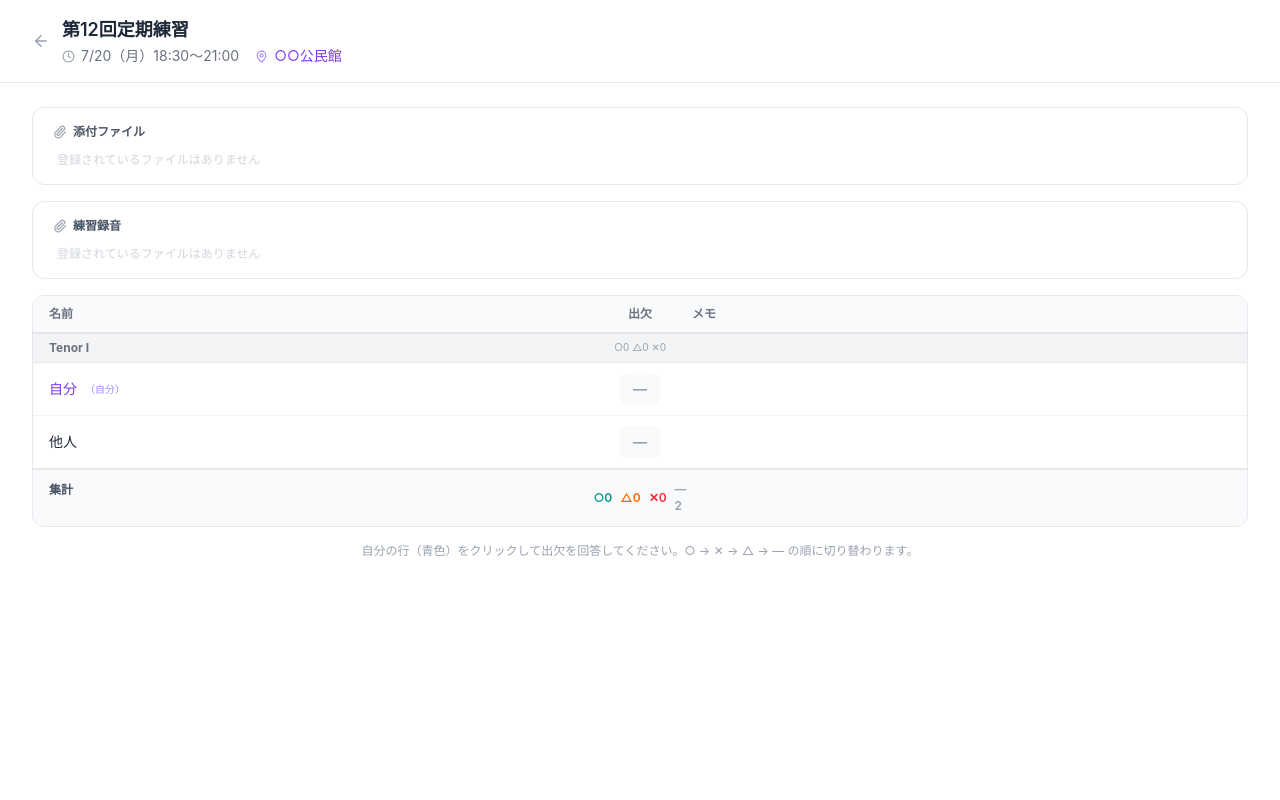
ScheduleDetailPage（出欠セルのクリック） › 自分の行のセルをクリックすると即座に表示が更新され、updateAttendanceが呼ばれる
Click the button titled "クリックで変更" in the row of "（自分）": (640, 389) [620,373,660,405]
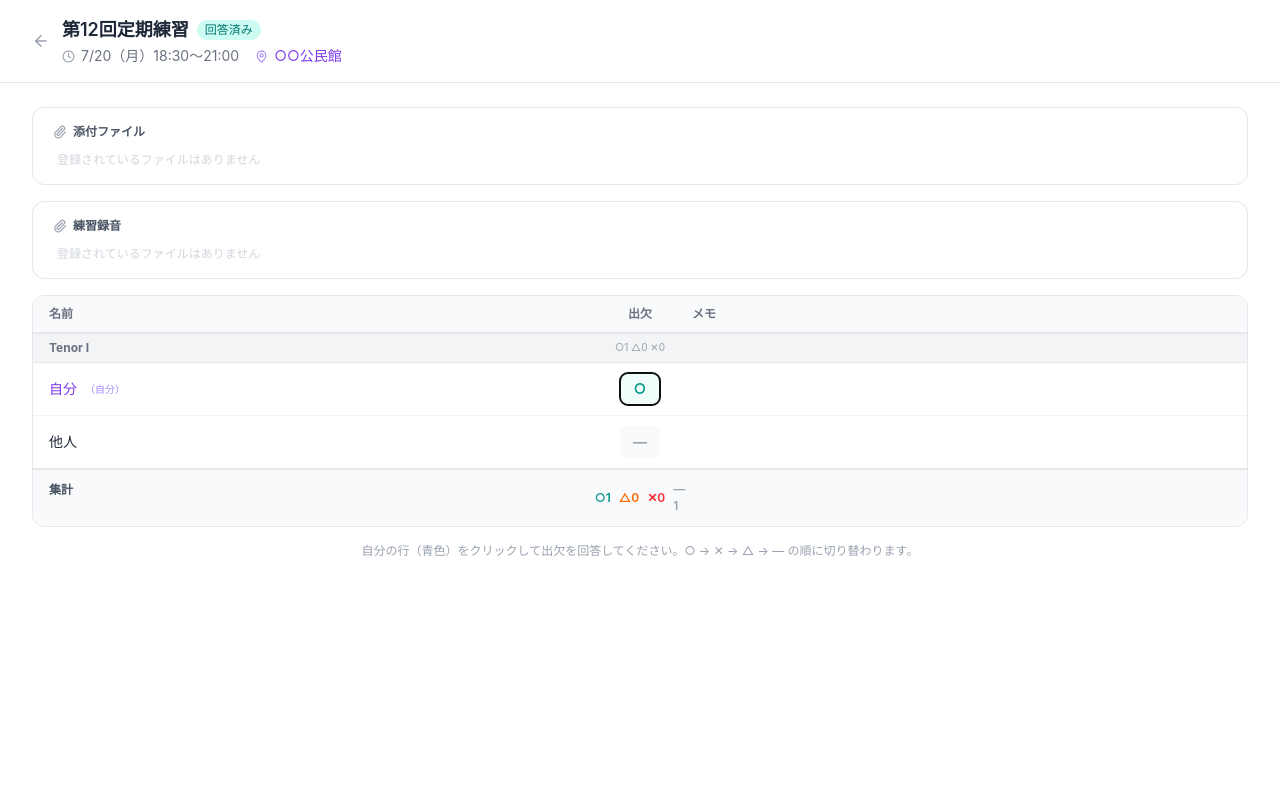
Check: the button titled "クリックで変更" reads "○"
Click the button titled "クリックで変更": (640, 389) [620,373,660,405]
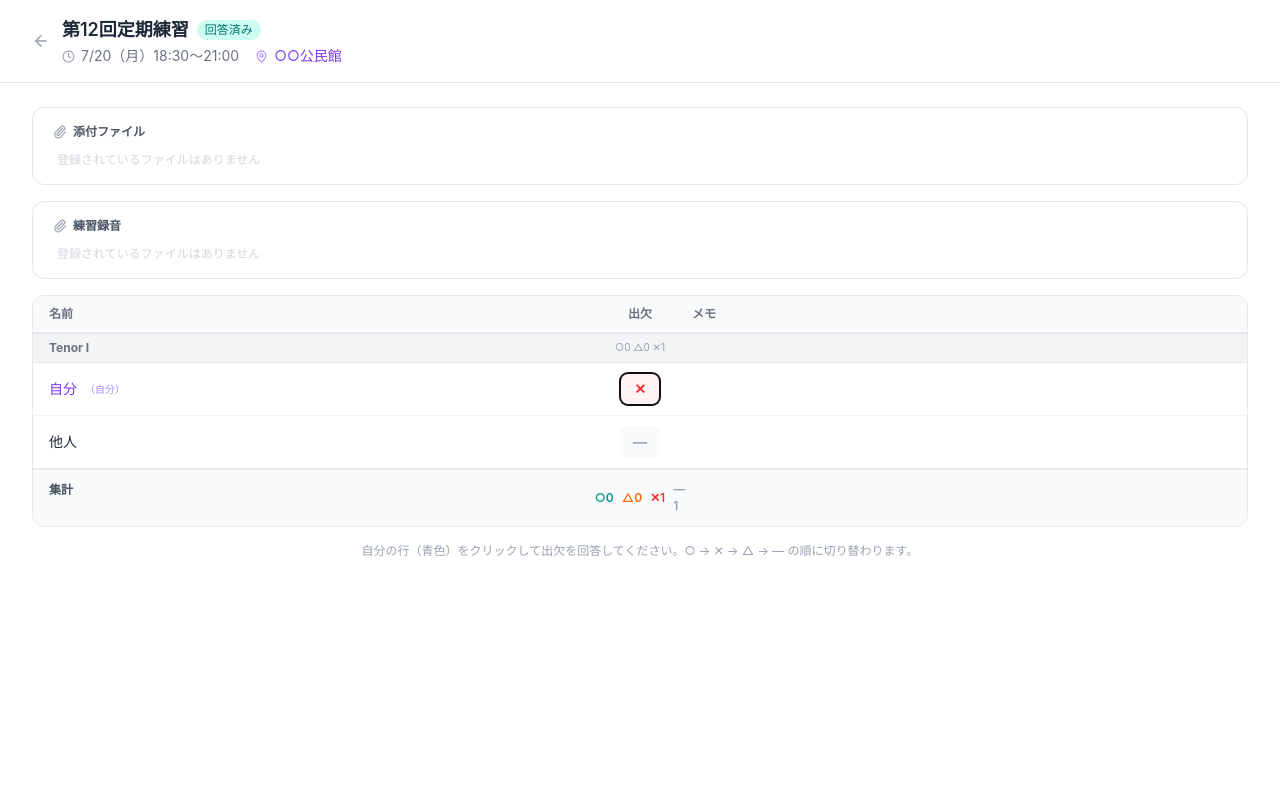
Check: the button titled "クリックで変更" reads "✕"
Click the button titled "クリックで変更": (640, 389) [620,373,660,405]
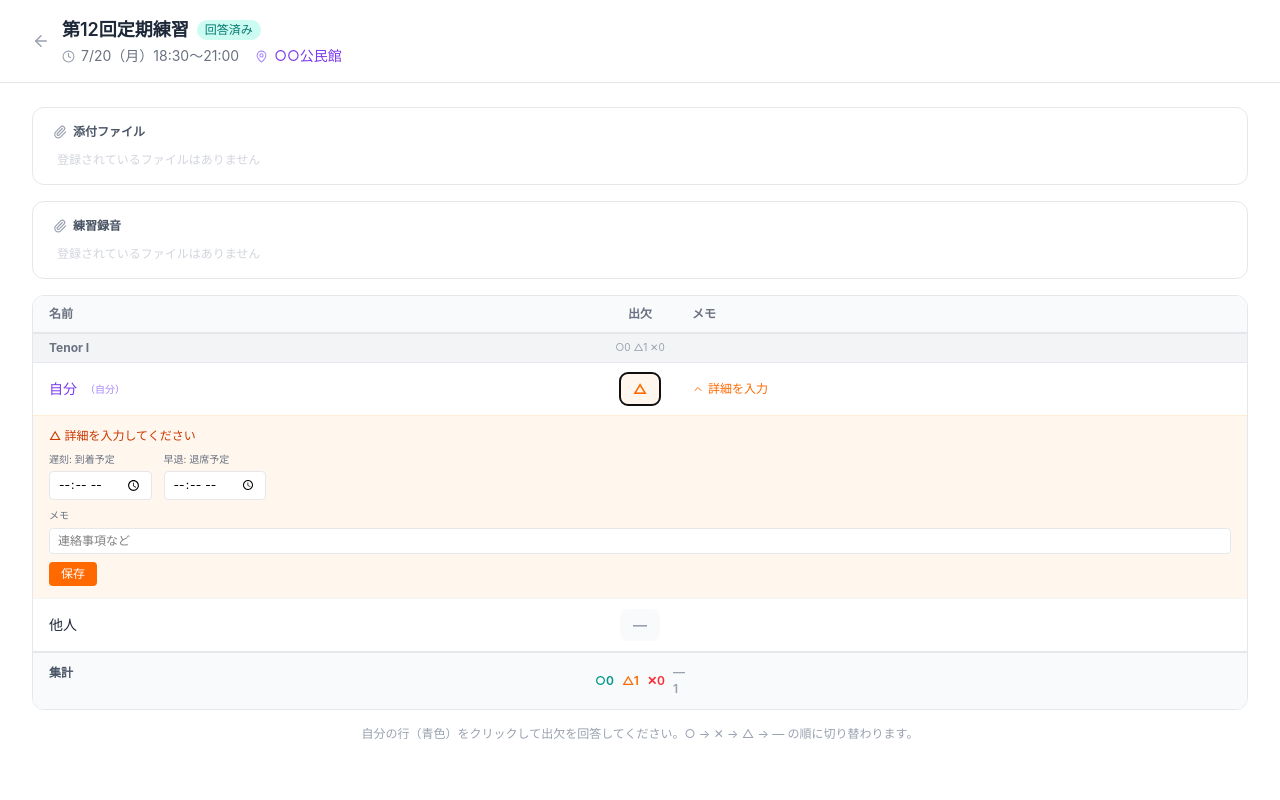
Check: the button titled "クリックで変更" reads "△"
Click the button titled "クリックで変更": (640, 389) [620,373,660,405]
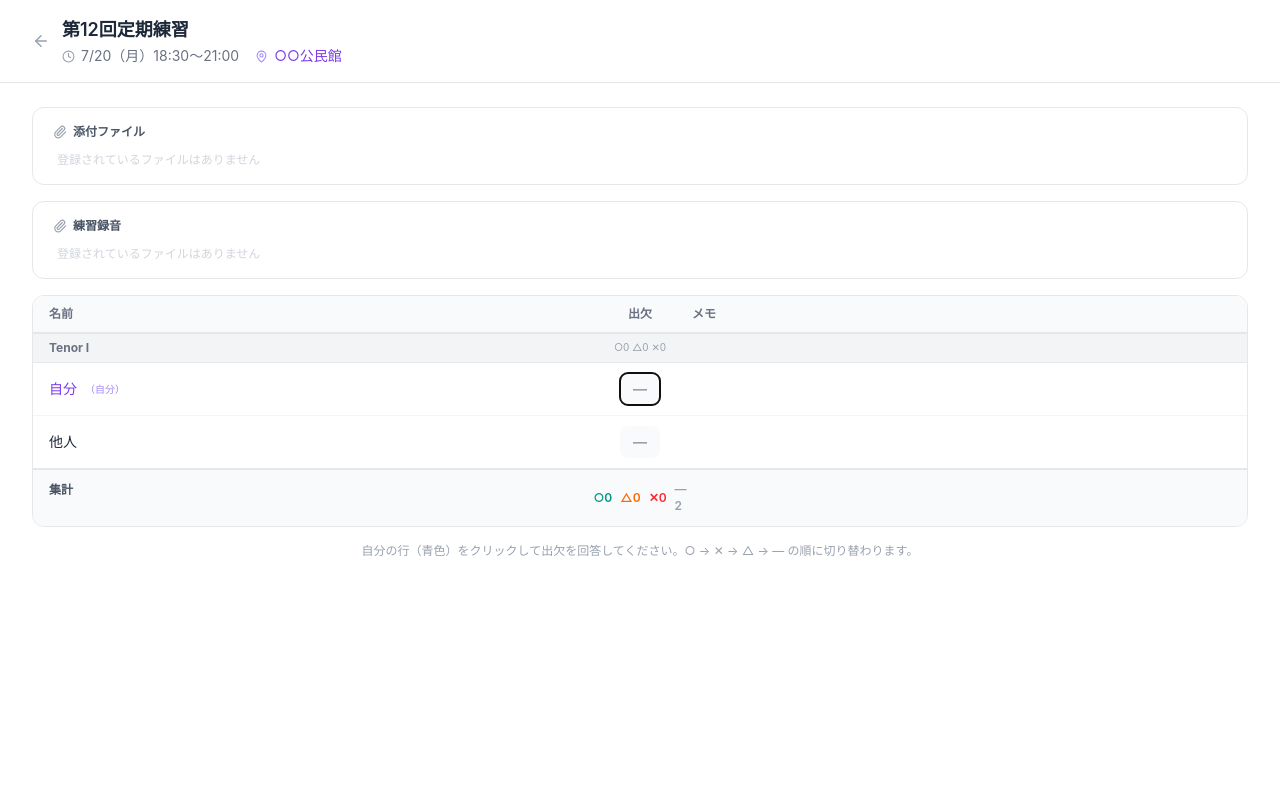
Check: the button titled "クリックで変更" in the row of "（自分）" reads "—", box [620,373,660,405]
